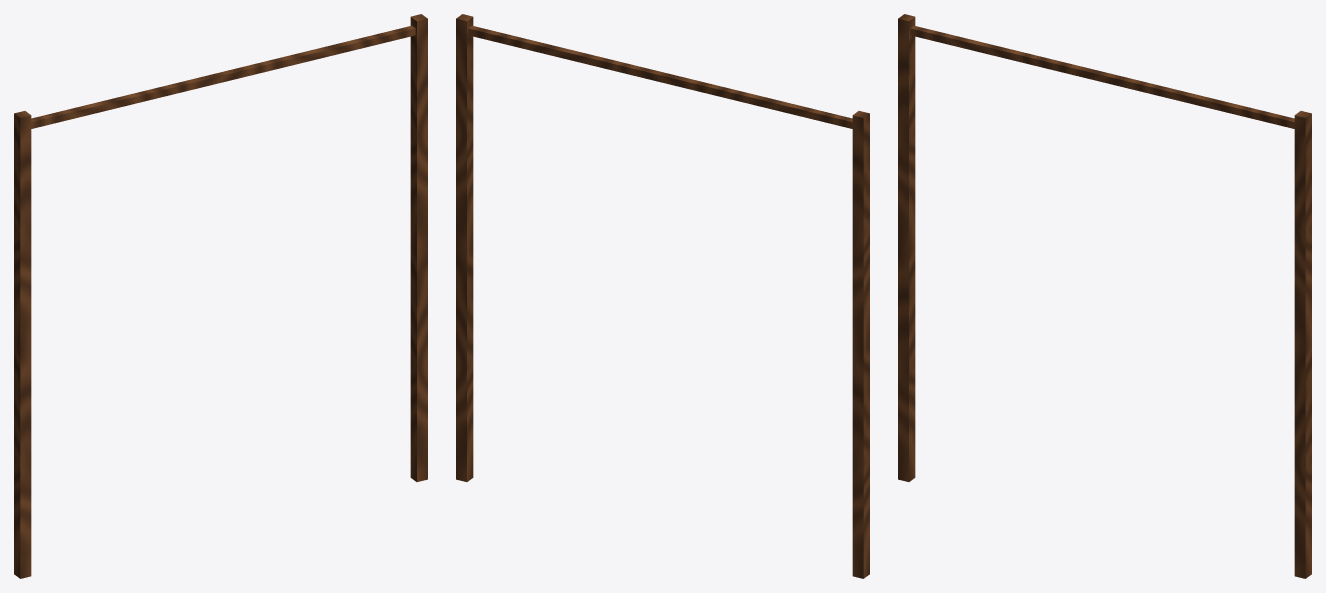
File: soportes.obj
3 views of the same model, side by side, from view 1: azimuth 30°, elevation 25°; view 2: azimuth 150°, elevation 25°; view 3: azimuth 330°, elevation 25° (orthographic).
Parts seen in each view (by area): view 1: soportes; view 2: soportes; view 3: soportes.
Boxes of the visible parts, x1,y1,x2,y2 form: soportes: (14,14,427,578); soportes: (456,14,869,578); soportes: (898,14,1311,578).
Bounding box in the file's own units: 1.85 × 2 × 0.05.
Materials: 1 (1 with a texture image).
